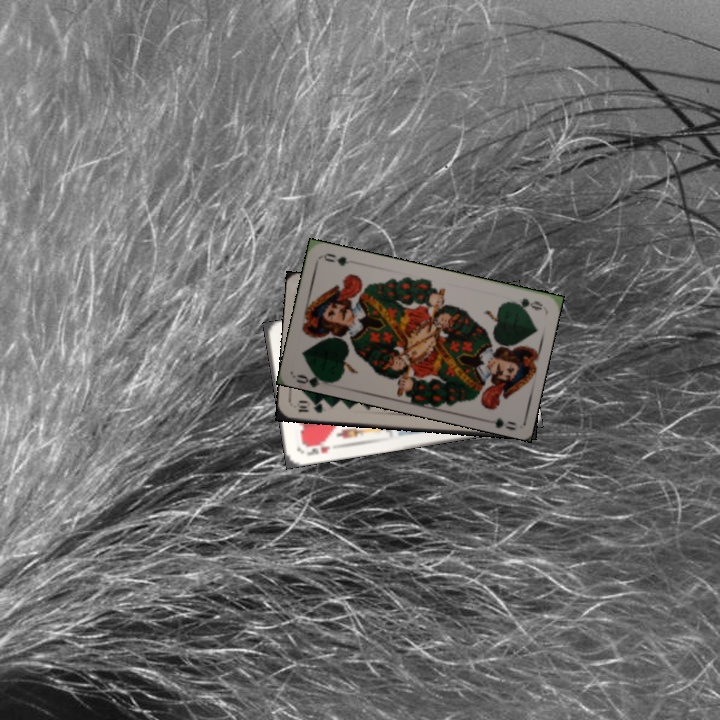G10: (293, 397, 325, 415)
GO: (293, 366, 334, 388), (504, 294, 545, 313)
HK: (302, 442, 333, 458)
